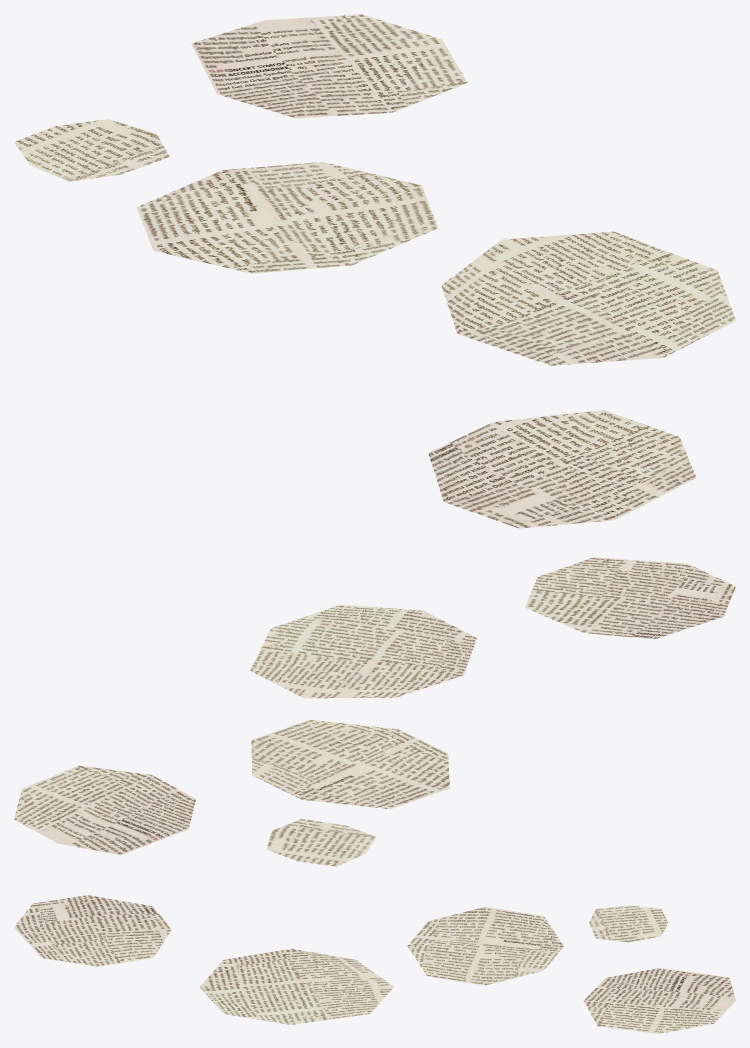
Rendered from Path_Rocks.fbx.
3 views of the same model, one above another, from view 1: azimuth 30°, elevation 25°; view 2: azimuth 150°, elevation 25°; view 3: azimuth 270°, elevation 25° (orthographic). The views are drawn at different scales.
Parts seen in each view (by area): view 1: Plane.010; view 2: Plane.010; view 3: Plane.010.
Part boxes in pixels (bbox=[...]): Plane.010: bbox=[14, 14, 735, 528]; Plane.010: bbox=[14, 557, 735, 866]; Plane.010: bbox=[14, 895, 735, 1033].
Bounding box in the file's own units: 1146 × 0.00041 × 2517.
